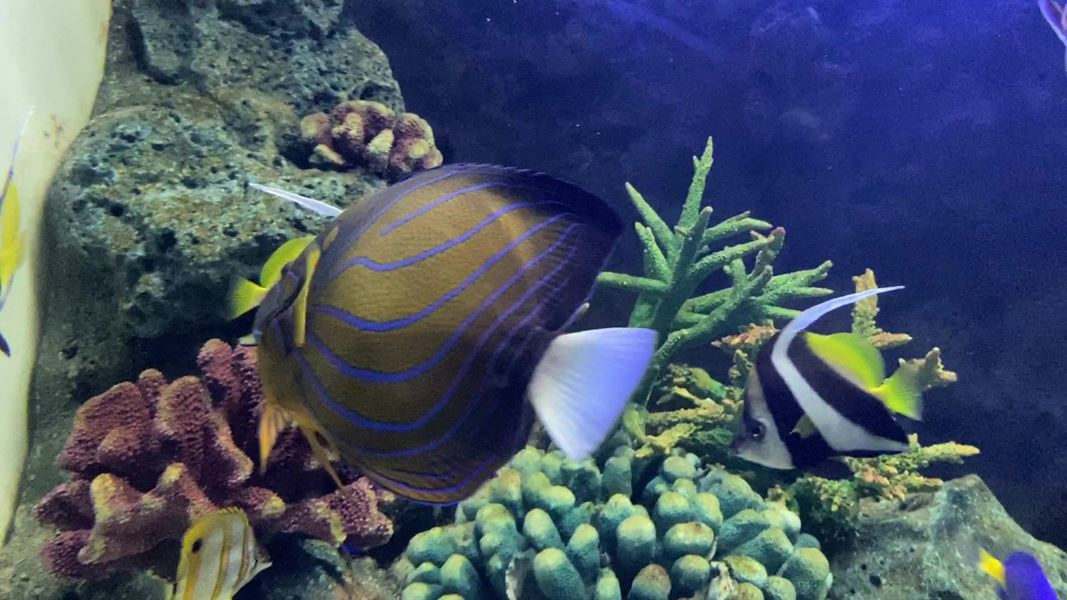Blue ring angelfish: (180, 148, 668, 516)
